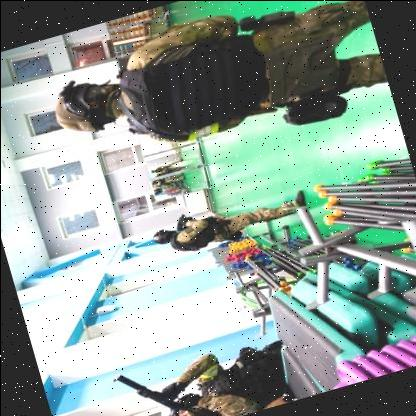rifle: (112, 348, 222, 416), (168, 210, 192, 231)
